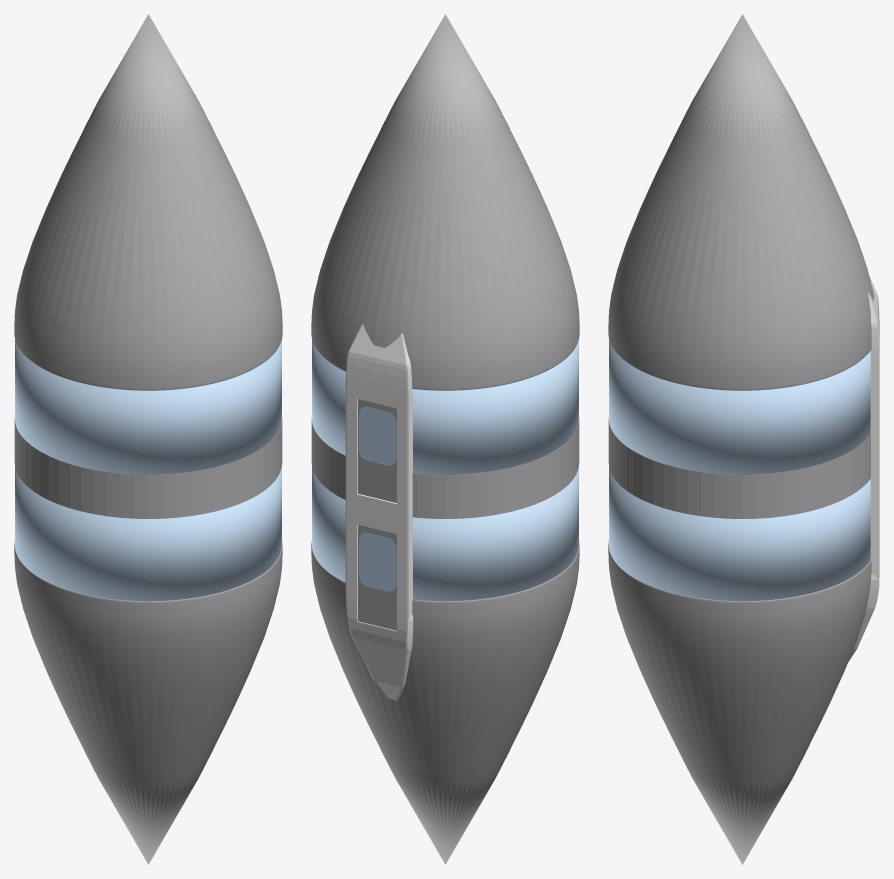
Rendered from Elevator.fbx.
The picture shows the model from 3 angles, left to right: view 1: azimuth 30°, elevation 25°; view 2: azimuth 150°, elevation 25°; view 3: azimuth 270°, elevation 25°; orthographic projection.
Visible parts, largest first — view 1: Top Fairing, Bottom Fairing, Upper Windows, Lower Windows, Spacer; view 2: Top Fairing, Bottom Fairing, Upper Windows, Lower Windows, Door Fairing, Spacer, Bottom Door window, Top Door Window, Bottom door, Top Door; view 3: Top Fairing, Bottom Fairing, Upper Windows, Lower Windows, Spacer, Door Fairing.
Boxes of the visible parts, x1,y1,x2,y2 form: Top Fairing: [14, 14, 282, 390]; Bottom Fairing: [14, 541, 282, 864]; Upper Windows: [15, 340, 281, 474]; Lower Windows: [15, 466, 281, 601]; Spacer: [14, 417, 282, 518]; Top Fairing: [311, 14, 579, 390]; Bottom Fairing: [311, 541, 579, 864]; Upper Windows: [312, 340, 578, 474]; Lower Windows: [312, 466, 578, 601]; Door Fairing: [345, 324, 413, 700]; Spacer: [311, 417, 579, 518]; Bottom Door window: [359, 532, 396, 591]; Top Door Window: [359, 406, 396, 465]; Bottom door: [358, 525, 397, 630]; Top Door: [358, 399, 396, 502]; Top Fairing: [608, 14, 873, 390]; Bottom Fairing: [608, 541, 871, 864]; Upper Windows: [609, 339, 870, 474]; Lower Windows: [609, 466, 870, 601]; Spacer: [608, 417, 870, 518]; Door Fairing: [848, 275, 879, 661].
Size of the model in its own units: 5.23 by 18.3 by 5.28.
